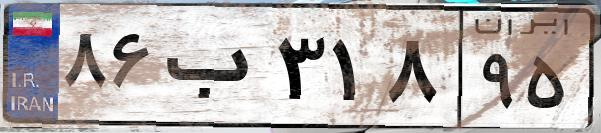1: (330, 28, 385, 110)
3: (270, 28, 330, 110)
5: (525, 38, 570, 115)
6: (110, 28, 158, 98)
8: (385, 28, 445, 110), (57, 26, 110, 100)
9: (475, 38, 525, 113)
ب: (158, 20, 270, 120)
